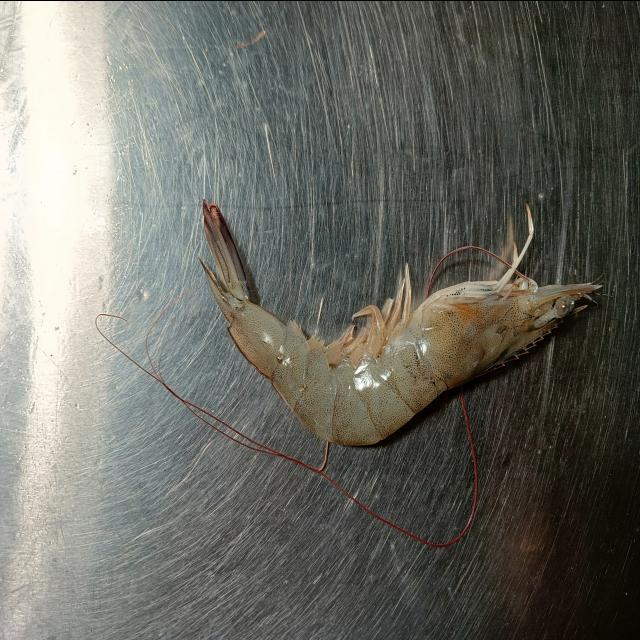shrimp: (202, 200, 600, 444)
